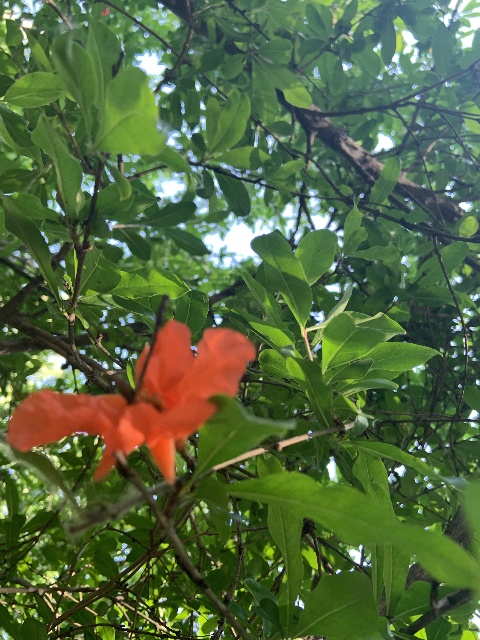flower: (5, 318, 260, 485)
